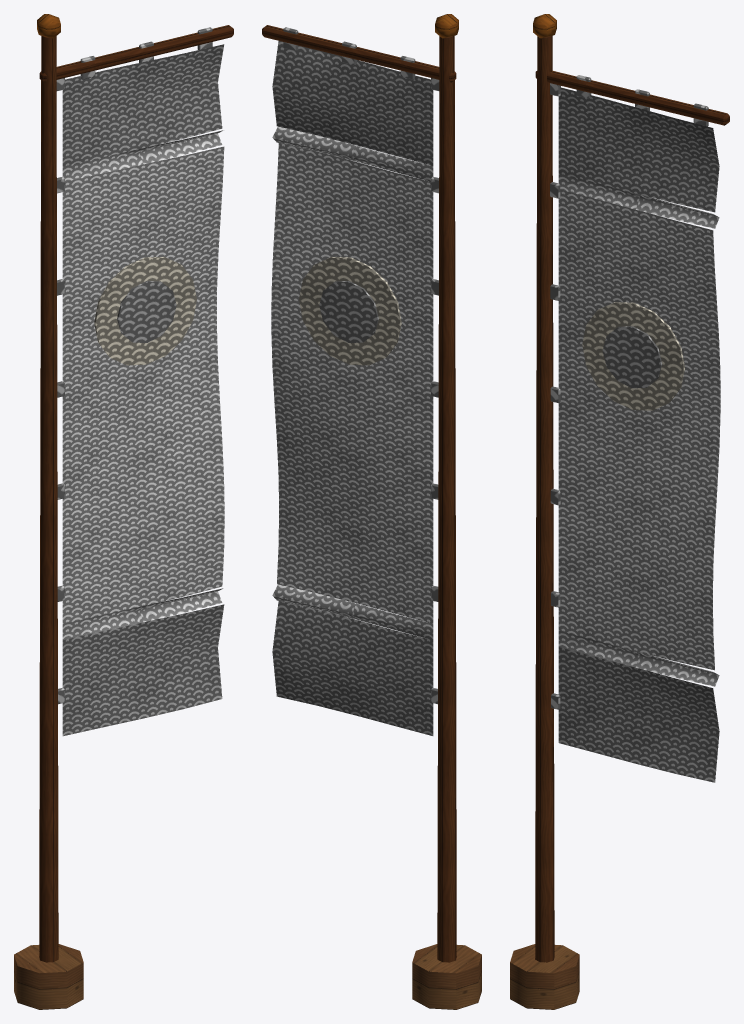
File: env_banner.glb
3 renders of one model, left to right at view 1: azimuth 30°, elevation 25°; view 2: azimuth 150°, elevation 25°; view 3: azimuth 330°, elevation 25°, orthographic.
Visible parts, largest first — view 1: banner_flag, banner_pole; view 2: banner_flag, banner_pole; view 3: banner_flag, banner_pole.
Part boxes in pixels (x1,y1,x2,y2): banner_flag: (56,27,224,736); banner_pole: (14,14,233,1009); banner_flag: (271,27,439,735); banner_pole: (262,14,481,1009); banner_flag: (550,75,720,782); banner_pole: (510,14,729,1009).
Size of the model in its own units: 1.1 by 4.8 by 0.32.
Materials: 2 (2 with a texture image).
